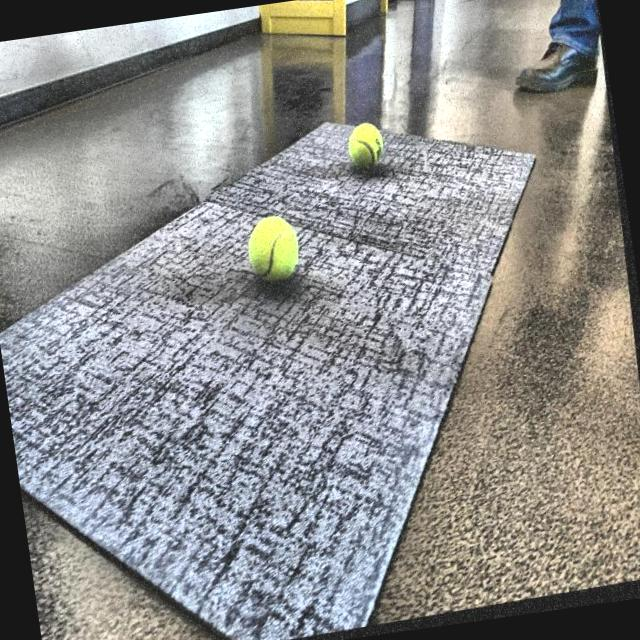Tennis Ball: (240, 206, 310, 296), (344, 120, 394, 181)
